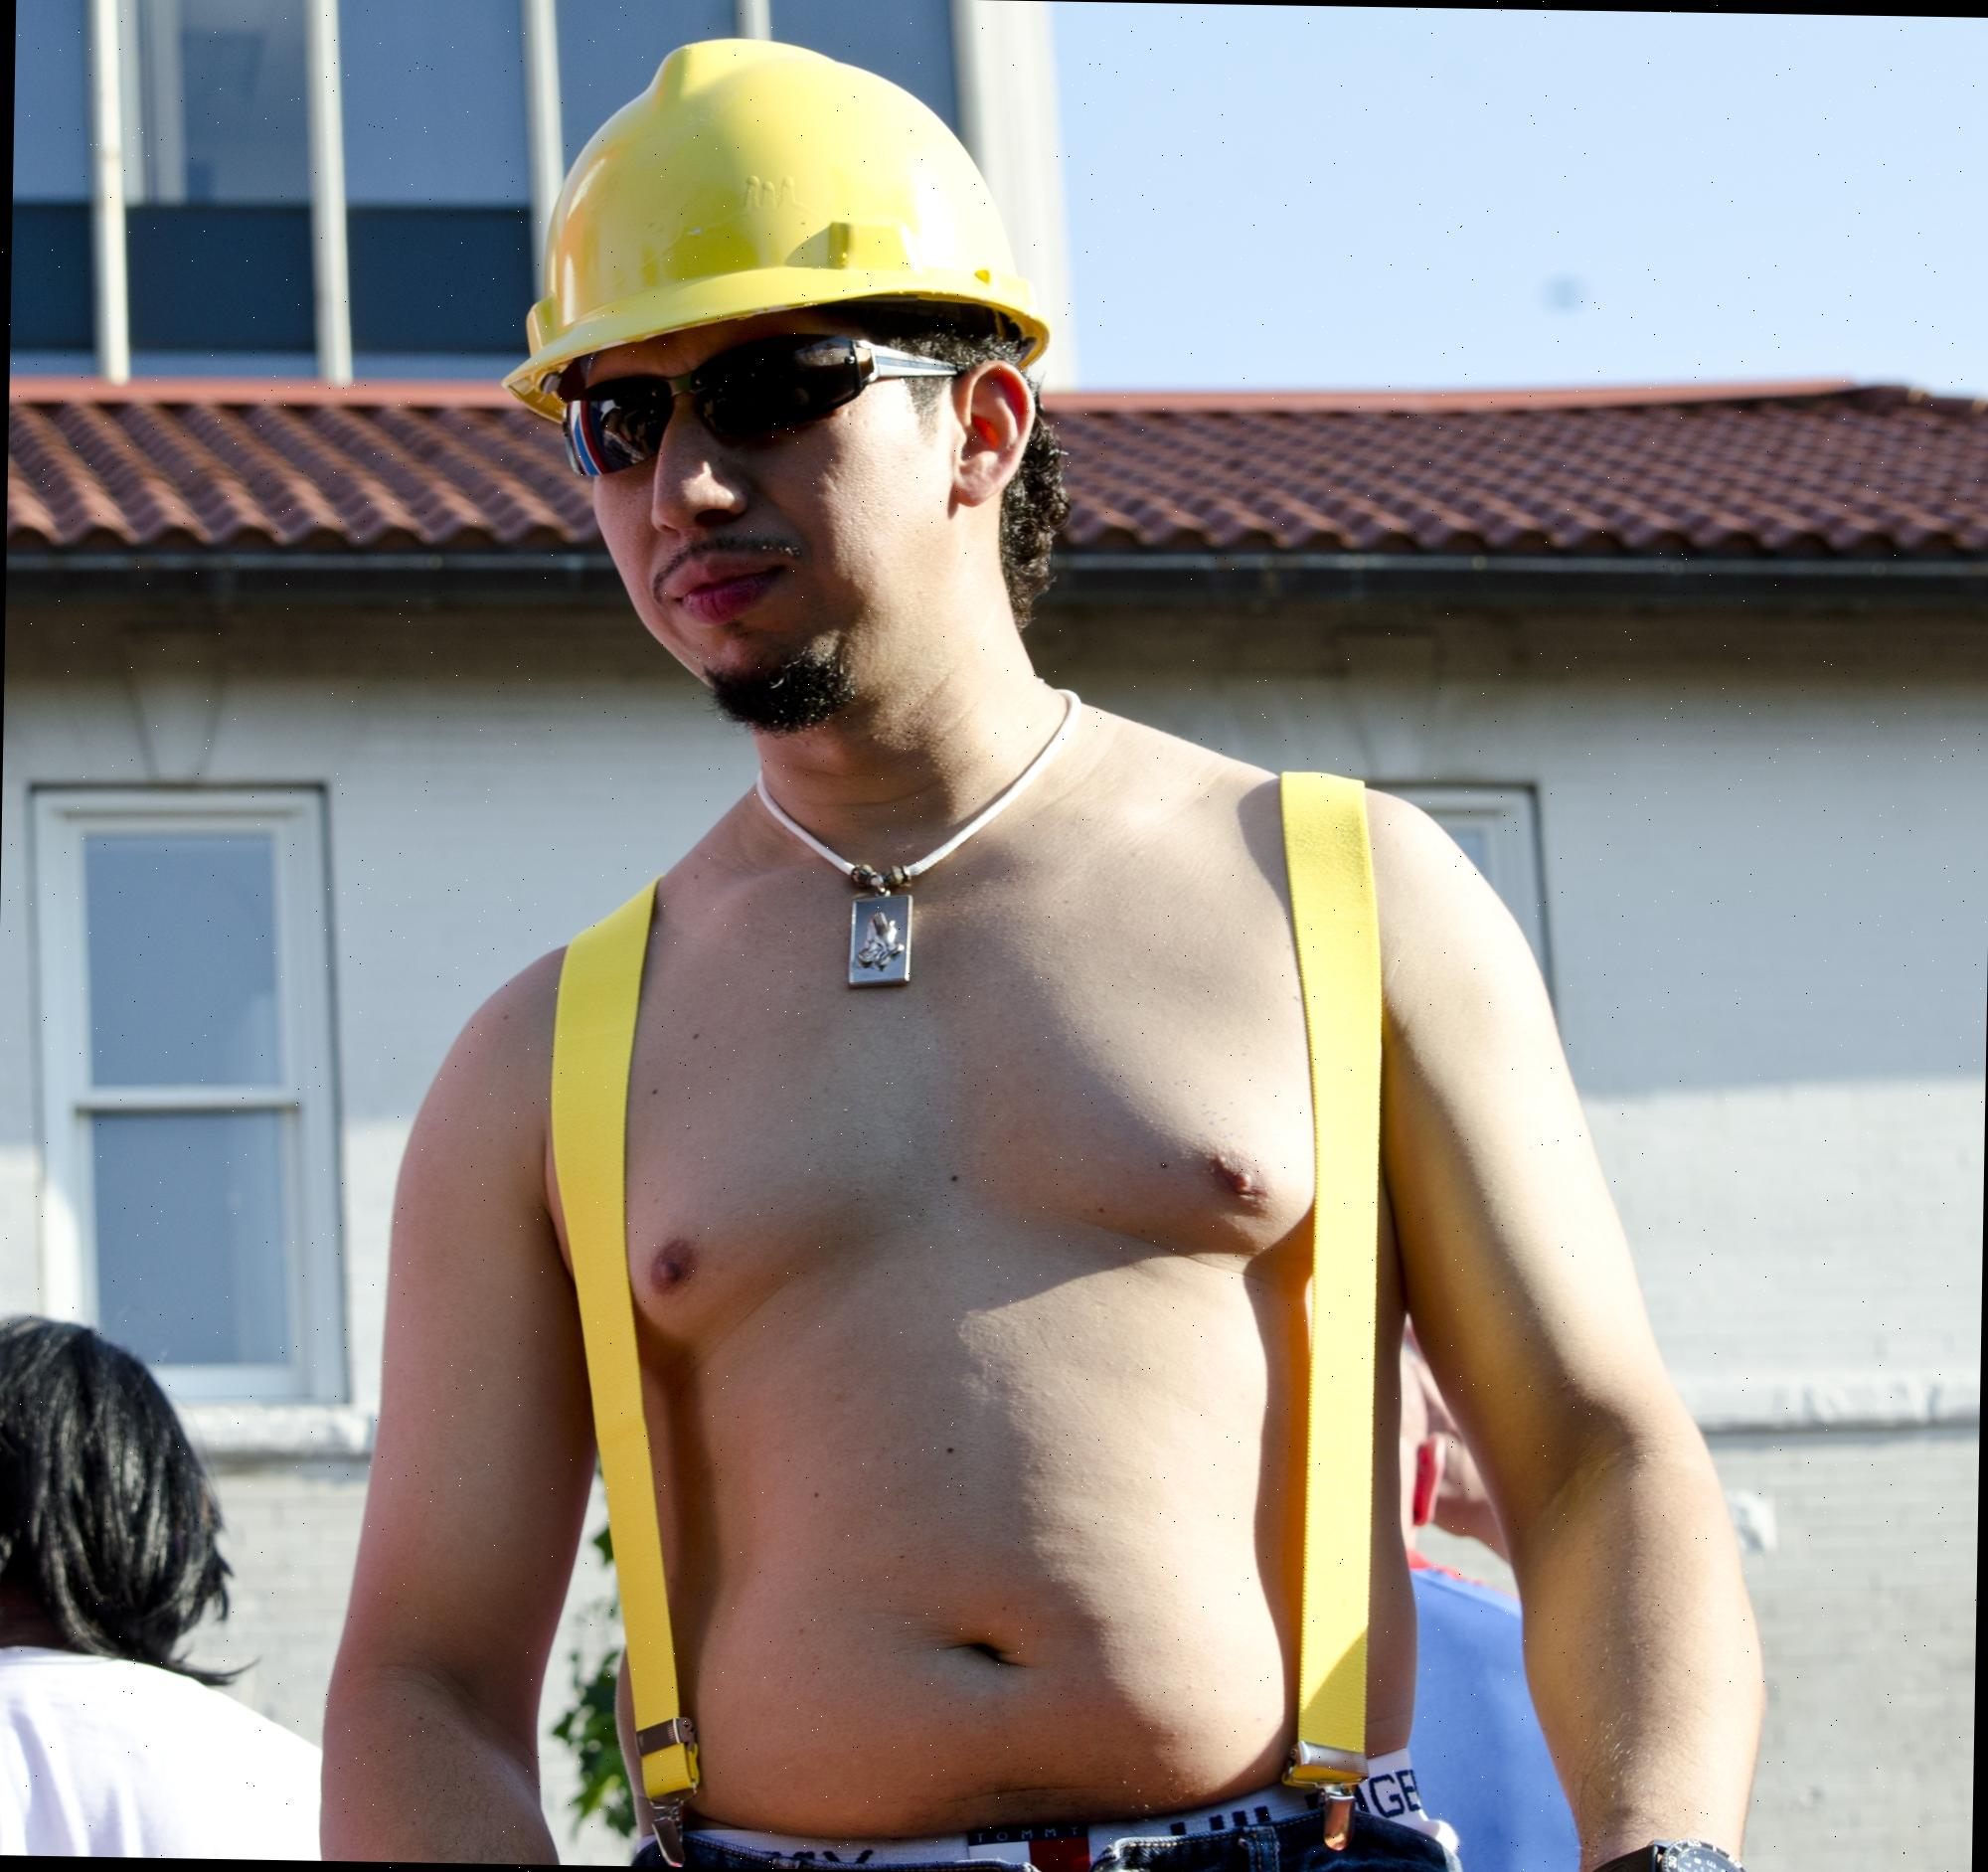helmet: (486, 37, 1042, 415)
no_wear: (410, 801, 1469, 1837), (0, 1680, 204, 1858)
